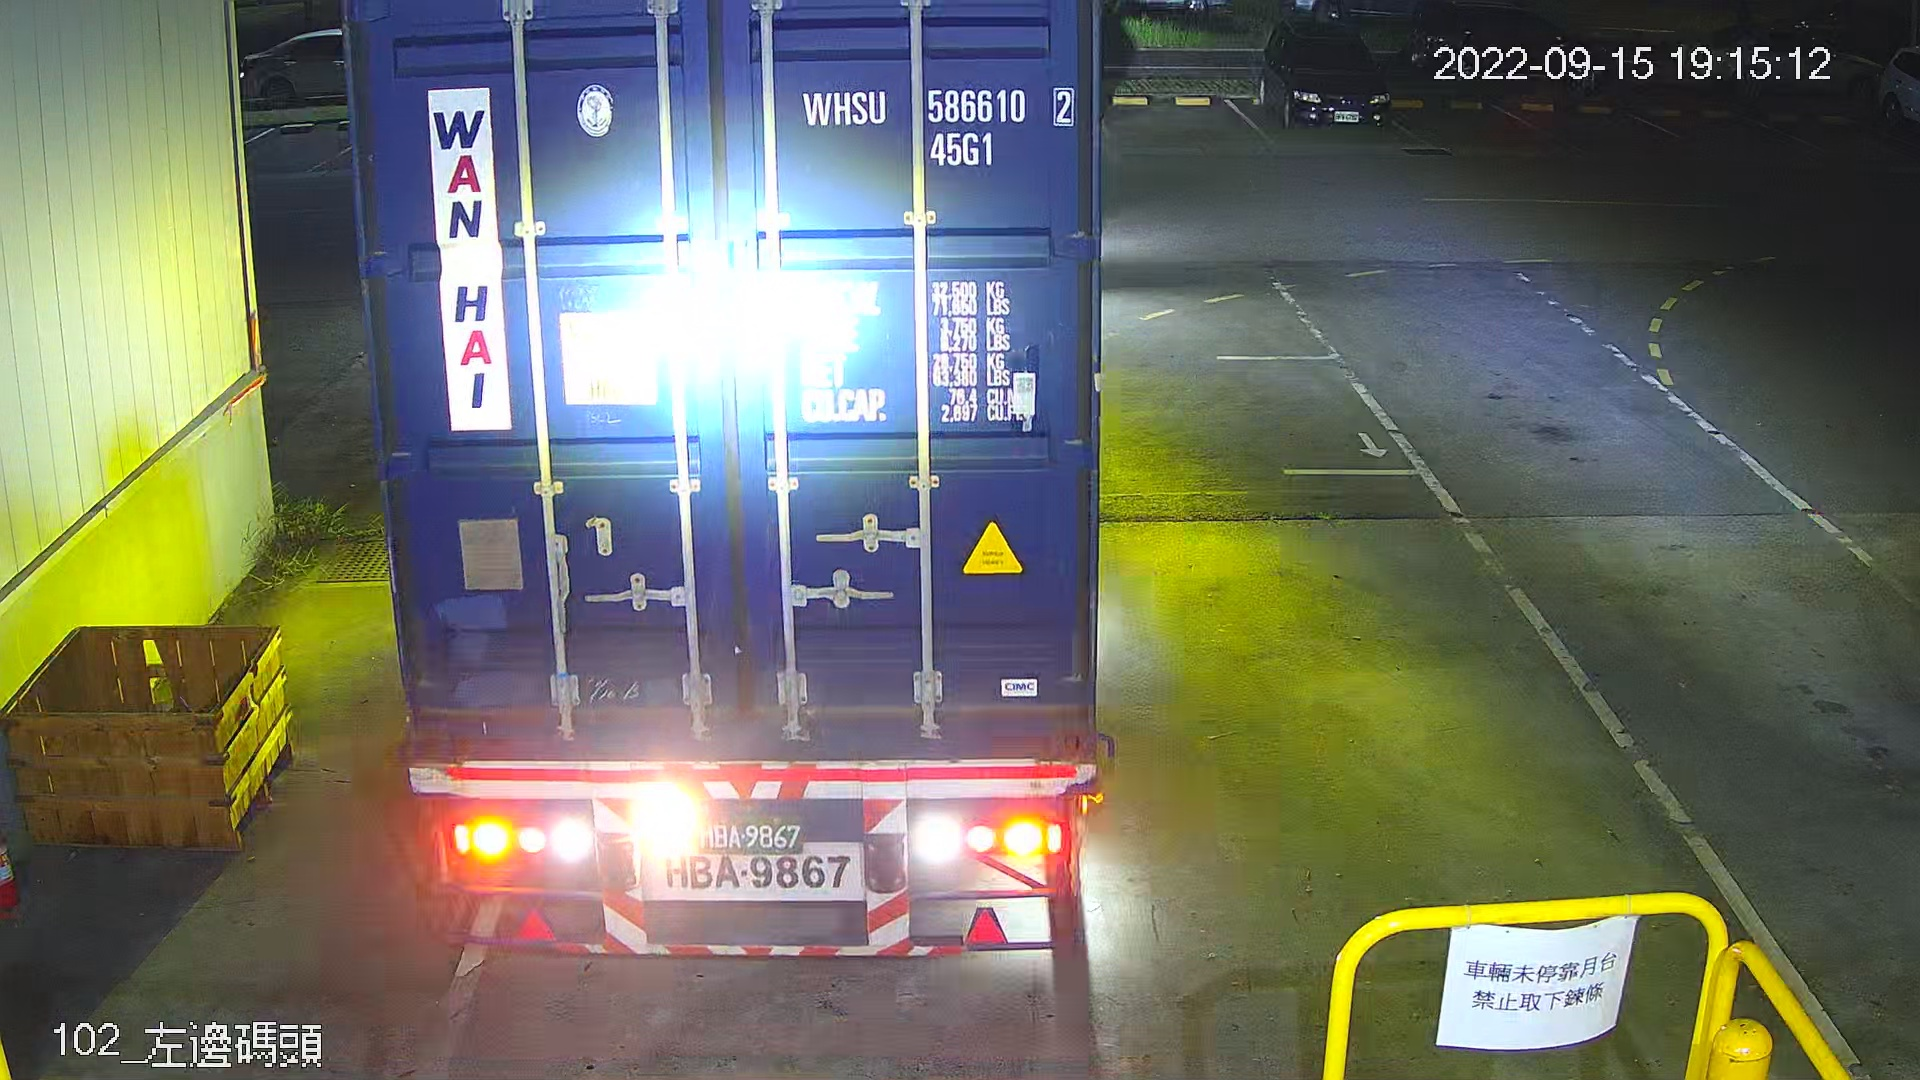container: (789, 76, 1087, 174)
